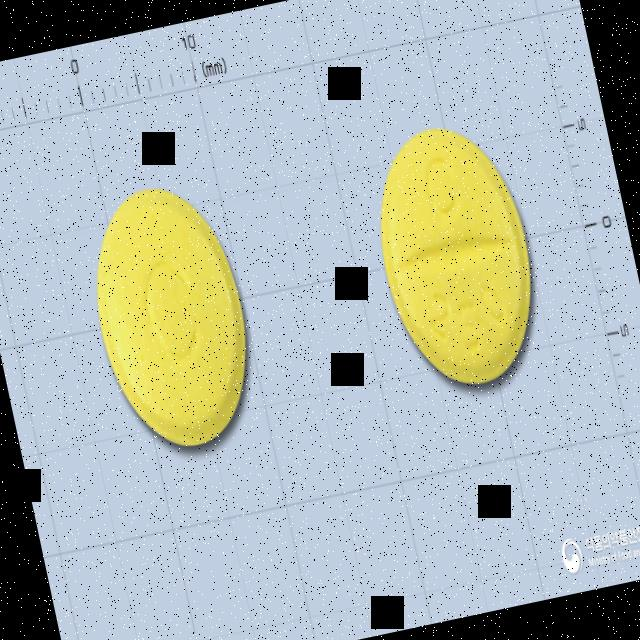C-Clarin: (70, 168, 274, 467)
